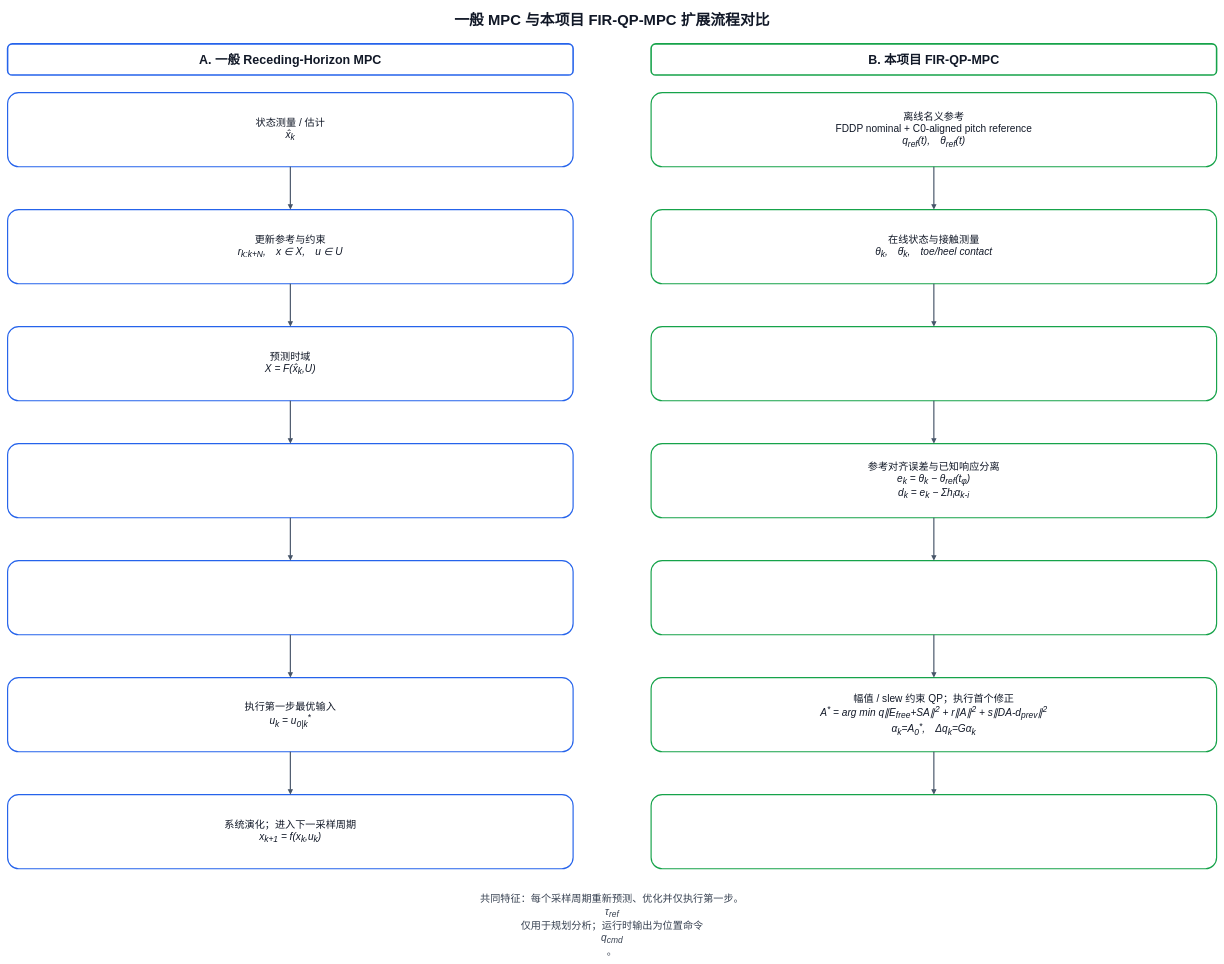
Some shapes in this 1224 by 964 pixel diagram are drawn without their labels. Each missing label, with the box of its shape:
AR 自然响应 + FIR 指令响应预测 E = E free + SA: (650, 560, 1217, 635)
位置命令与 actuator proxy q cmd = q ref (t φ ) + Δq k: (650, 794, 1217, 869)
接触事件相位对齐 t φ = clip(t + Δt φ ,0,T): (650, 326, 1217, 401)
构造目标函数 tracking + control effort + terminal cost J = Σ∥x-r∥ Q 2 + ∥u∥ R 2 + V f: (7, 443, 573, 518)
求解 QP / NLP U k * = arg min U J(x̂ k ,U): (7, 560, 573, 635)
